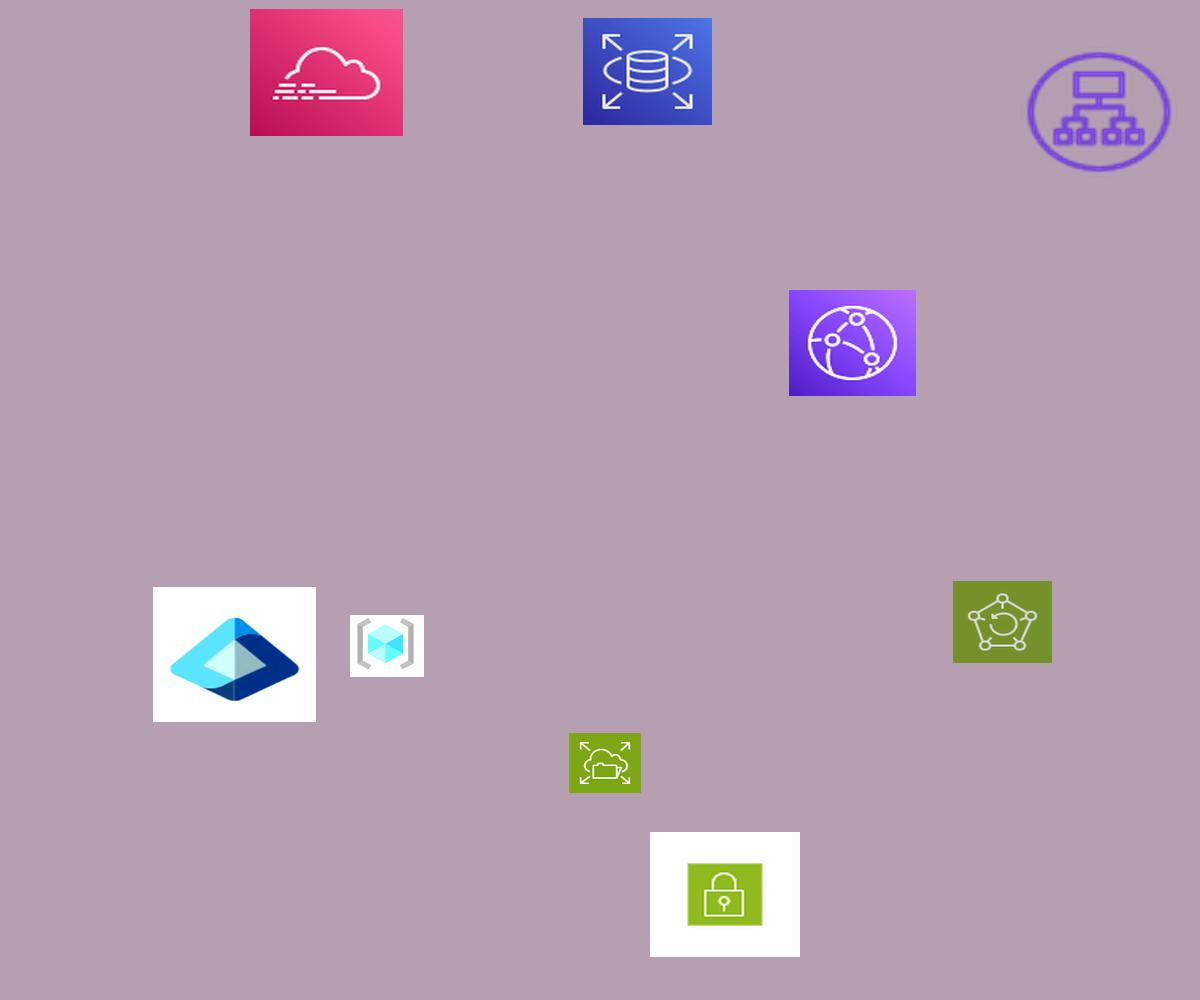AWS-Backup: (953, 581, 1052, 663)
AWS-CloudFront: (789, 290, 916, 396)
AWS-CloudTrail: (250, 9, 403, 136)
AWS-EFS: (569, 733, 641, 793)
AWS-Public-subnet: (650, 832, 800, 957)
AWS-RDS: (583, 18, 712, 125)
AWS-Res_Elastic-Load-Balancing_Application-Load-Balancer: (1021, 47, 1177, 177)
Azure_microsoft_entra: (153, 587, 316, 722)
Azure_resource_group: (350, 615, 424, 677)
